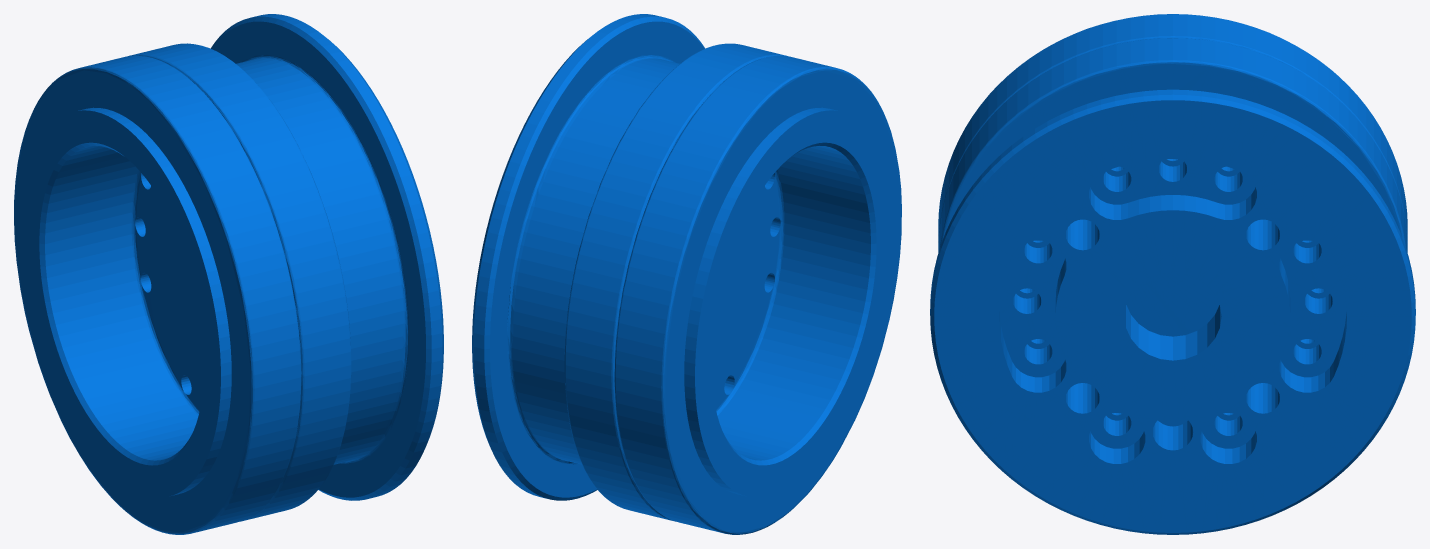
File: MotomanGP7Link6.dae
3 views of the same model, side by side, from view 1: azimuth 30°, elevation 25°; view 2: azimuth 150°, elevation 25°; view 3: azimuth 270°, elevation 25° (orthographic). The views are drawn at different scales.
Visible parts, largest first — view 1: node_d4a87a89_2638_47db_8ecd_337438bd3fde_mesh0; view 2: node_d4a87a89_2638_47db_8ecd_337438bd3fde_mesh0; view 3: node_d4a87a89_2638_47db_8ecd_337438bd3fde_mesh0.
Boxes of the visible parts, x1,y1,x2,y2 form: node_d4a87a89_2638_47db_8ecd_337438bd3fde_mesh0: [14, 14, 443, 534]; node_d4a87a89_2638_47db_8ecd_337438bd3fde_mesh0: [472, 14, 901, 534]; node_d4a87a89_2638_47db_8ecd_337438bd3fde_mesh0: [930, 14, 1415, 534].
Size of the model in its own units: 0.028 by 0.06 by 0.06.
